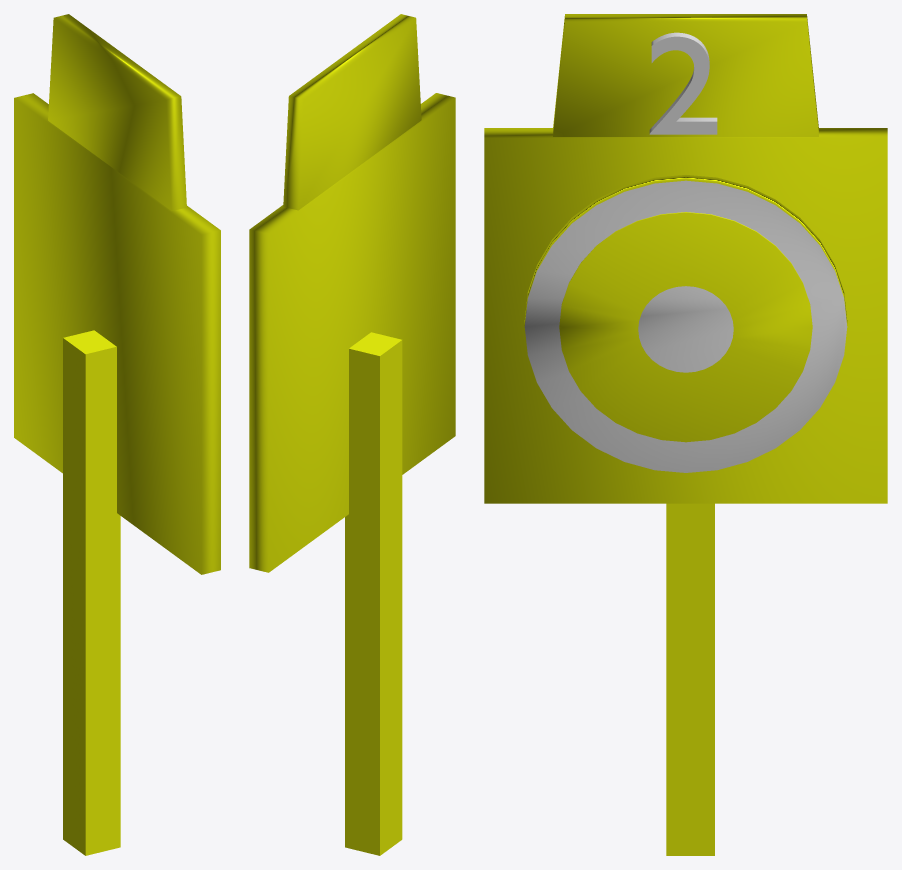
File: Target2Yellow.fbx
3 views of the same model, side by side, from view 1: azimuth 30°, elevation 25°; view 2: azimuth 150°, elevation 25°; view 3: azimuth 270°, elevation 25° (orthographic). The views are drawn at different scales.
Visible parts, largest first — view 1: Target2Yellow; view 2: Target2Yellow; view 3: Target2Yellow, 2.001.
Part boxes in pixels (x1,y1,x2,y2): Target2Yellow: (14, 14, 220, 855); Target2Yellow: (249, 14, 455, 855); Target2Yellow: (484, 14, 887, 855); 2.001: (649, 32, 717, 134).
Bounding box in the file's own units: 20.6 × 230 × 100.
